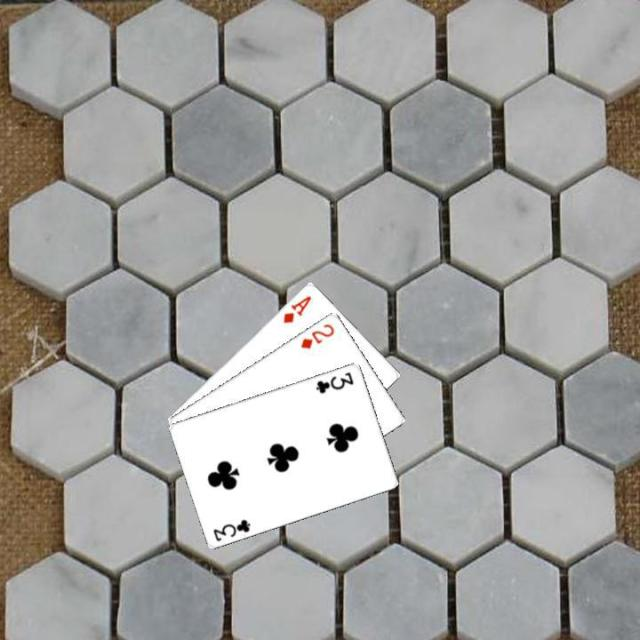2D: (297, 319, 336, 350)
3C: (209, 515, 252, 543), (312, 368, 356, 395)
AD: (279, 292, 314, 324)
